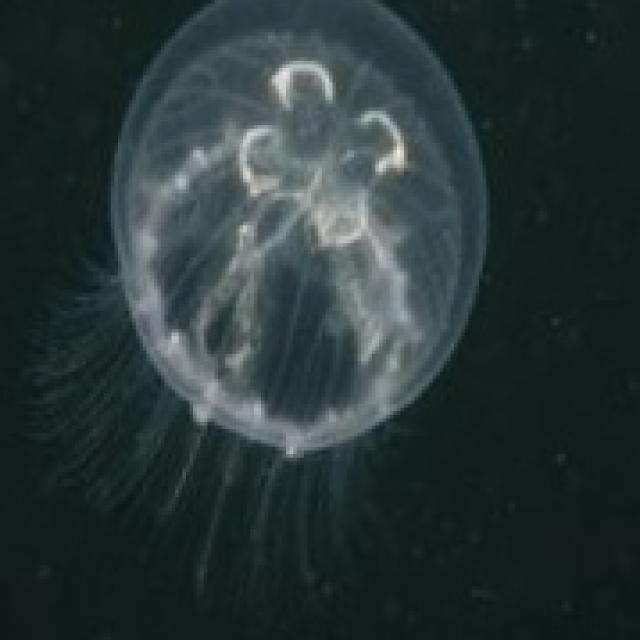Moon-jellyfish: (107, 0, 490, 458)
